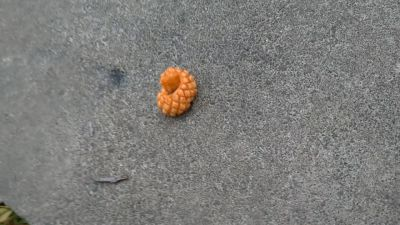eggs: (156, 65, 199, 119)
